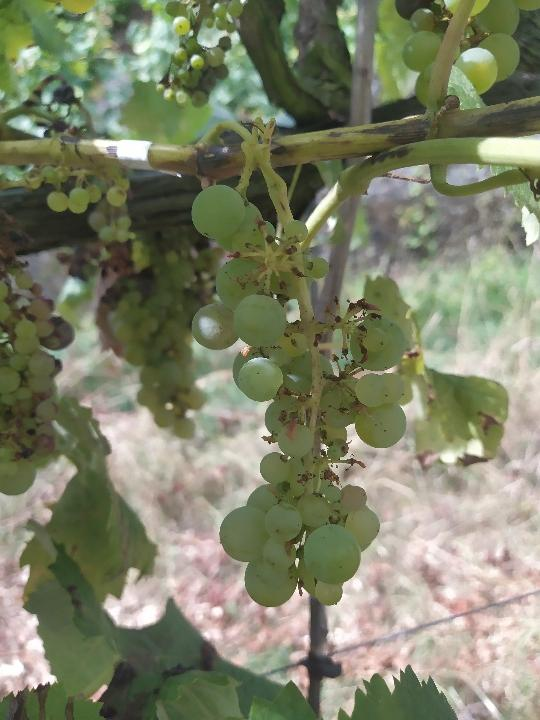grape: (186, 182, 418, 610)
